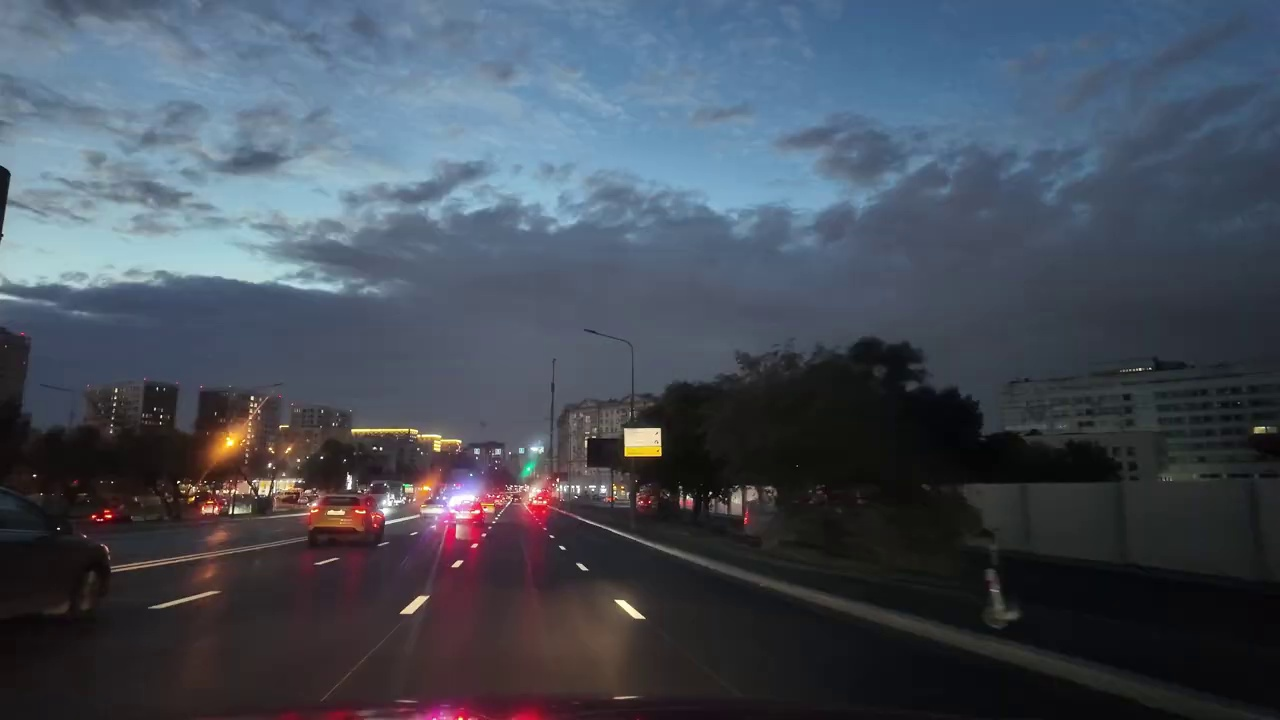apagada: (578, 313, 609, 348)
